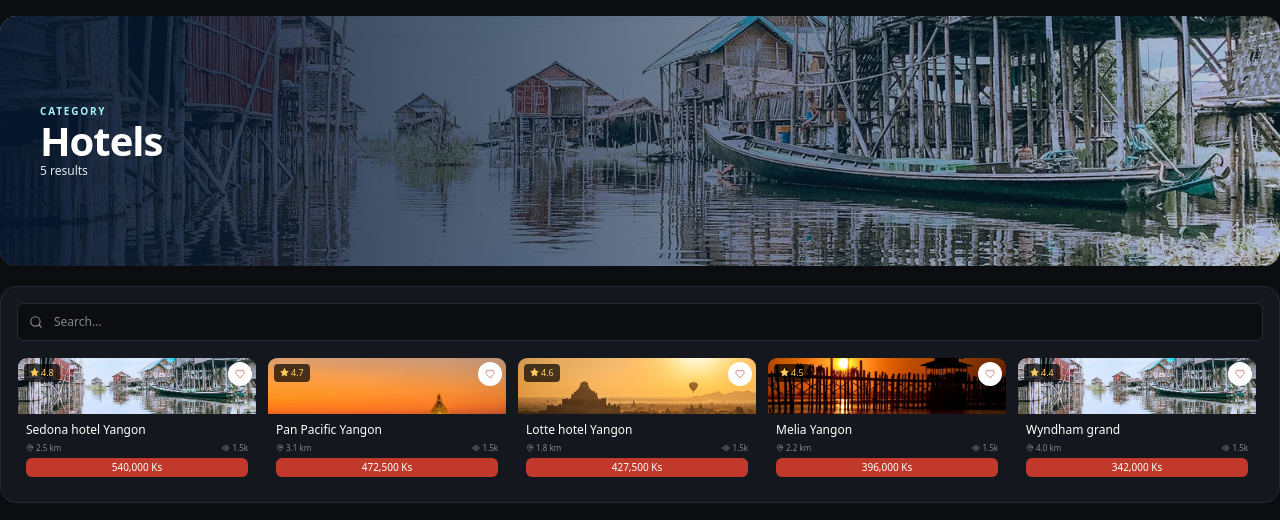
Test: every list reaches an empty state › a category page says no results match
In the field with placeholder "Search...": (640, 322) [17, 303, 1263, 341], type "zzzznomatchzzzz"
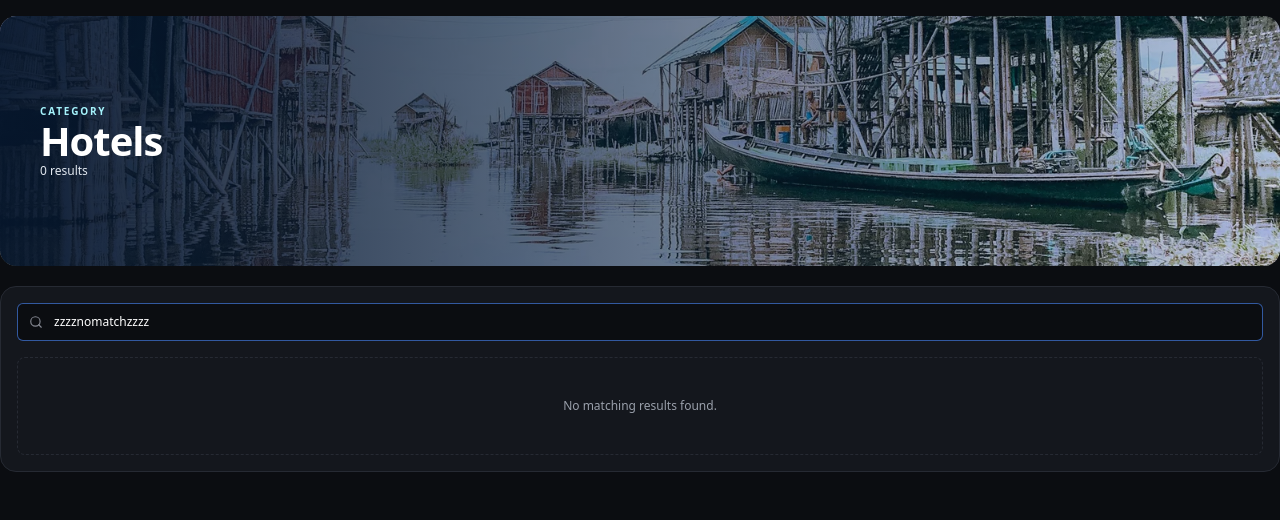
Expected: the text "No matching results found." is shown, [17, 357, 1263, 455]
